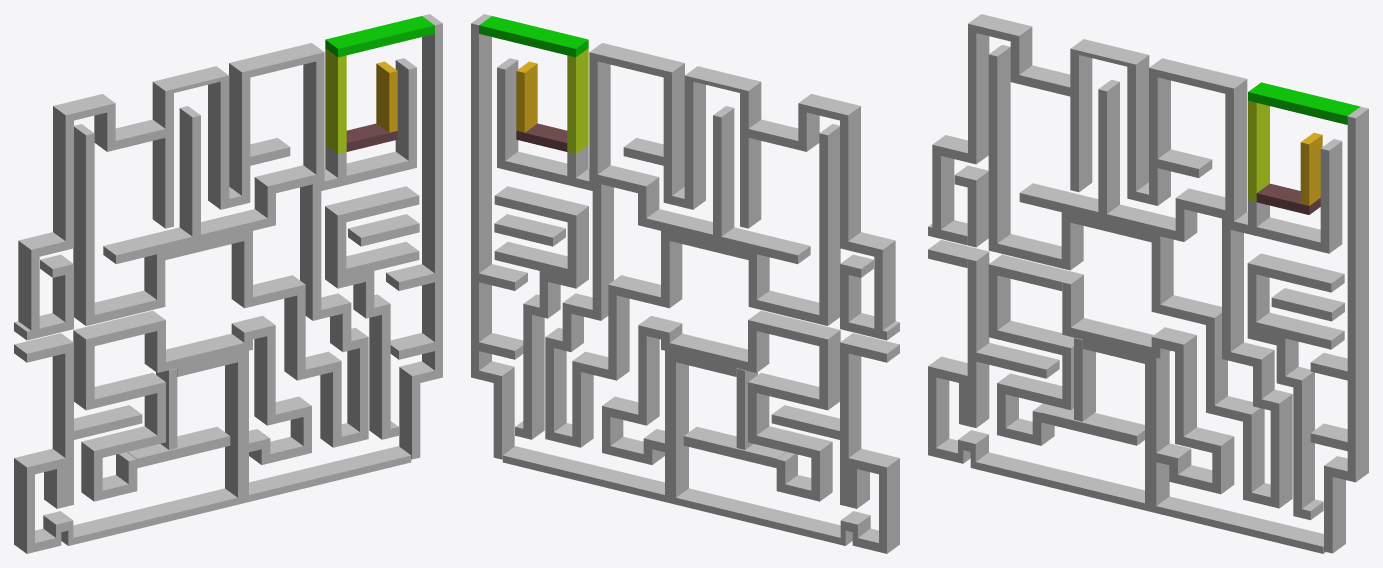
Rendered from tinker.obj.
3 views of the same model, side by side, from view 1: azimuth 30°, elevation 25°; view 2: azimuth 150°, elevation 25°; view 3: azimuth 330°, elevation 25° (orthographic). The views are drawn at different scales.
Visible parts, largest first — view 1: group_0_14090376, group_0_3888552, group_0_6920617, group_0_1958604, group_0_14124288, group_0_8819868, group_0_16768282, group_0_14900002, group_0_11993303, group_0_11107152, group_0_13877221, group_0_5374167 (+67 smaller); view 2: group_0_14090376, group_0_3888552, group_0_6920617, group_0_1958604, group_0_14124288, group_0_8819868, group_0_16768282, group_0_14900002, group_0_11993303, group_0_11107152, group_0_13877221, group_0_5374167 (+67 smaller); view 3: group_0_14090376, group_0_3888552, group_0_14124288, group_0_8819868, group_0_6920617, group_0_1958604, group_0_11107152, group_0_14900002, group_0_16768282, group_0_13877221, group_0_11993303, group_0_5374167 (+71 smaller).
Boxes of the visible parts, x1,y1,x2,y2 form: group_0_14090376: (422,14,442,273); group_0_3888552: (73,124,94,325); group_0_6920617: (240,446,411,503); group_0_1958604: (73,488,239,544); group_0_14124288: (225,350,248,497); group_0_8819868: (52,333,73,497); group_0_16768282: (208,79,229,209); group_0_14900002: (179,106,200,236); group_0_11993303: (300,182,321,311); group_0_11107152: (303,43,324,174); group_0_13877221: (53,113,73,250); group_0_5374167: (369,312,390,430); group_0_14090376: (471,14,491,273); group_0_3888552: (819,124,840,325); group_0_6920617: (502,446,673,503); group_0_1958604: (674,488,840,544); group_0_14124288: (665,350,688,497); group_0_8819868: (840,333,861,497); group_0_16768282: (684,79,705,209); group_0_14900002: (713,106,734,236); group_0_11993303: (592,182,613,311); group_0_11107152: (589,43,610,174); group_0_13877221: (840,113,860,250); group_0_5374167: (523,312,544,430); group_0_14090376: (1347,106,1368,373); group_0_3888552: (988,45,1010,252); group_0_14124288: (1145,352,1169,505); group_0_8819868: (967,249,989,418); group_0_6920617: (1147,496,1325,553); group_0_1958604: (975,452,1146,510); group_0_11107152: (1225,77,1247,212); group_0_14900002: (1098,79,1119,213); group_0_16768282: (1127,59,1149,200); group_0_13877221: (968,31,989,164); group_0_11993303: (1222,218,1243,351); group_0_5374167: (1293,380,1314,508).
Size of the model in its own units: 998 by 989 by 53.46.
